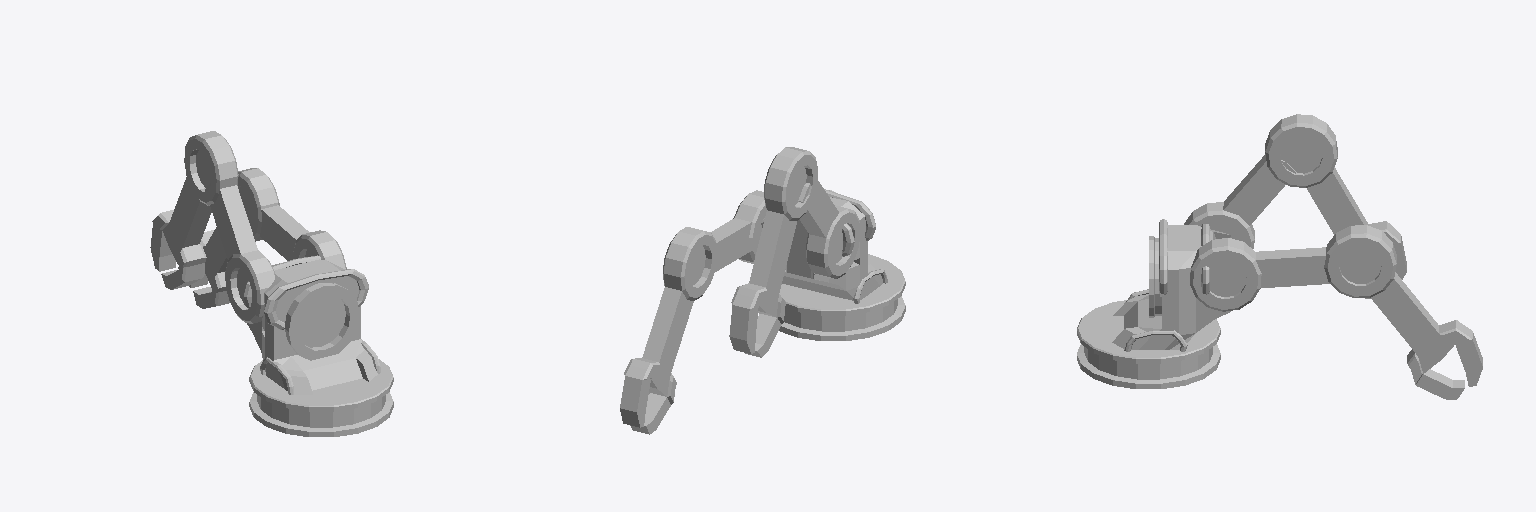
Rendered from RepairTurret.obj.
3 views of the same model, side by side, from view 1: azimuth 30°, elevation 25°; view 2: azimuth 150°, elevation 25°; view 3: azimuth 270°, elevation 25° (orthographic).
Bounding box in the file's own units: 4.23 × 7.95 × 12.11.